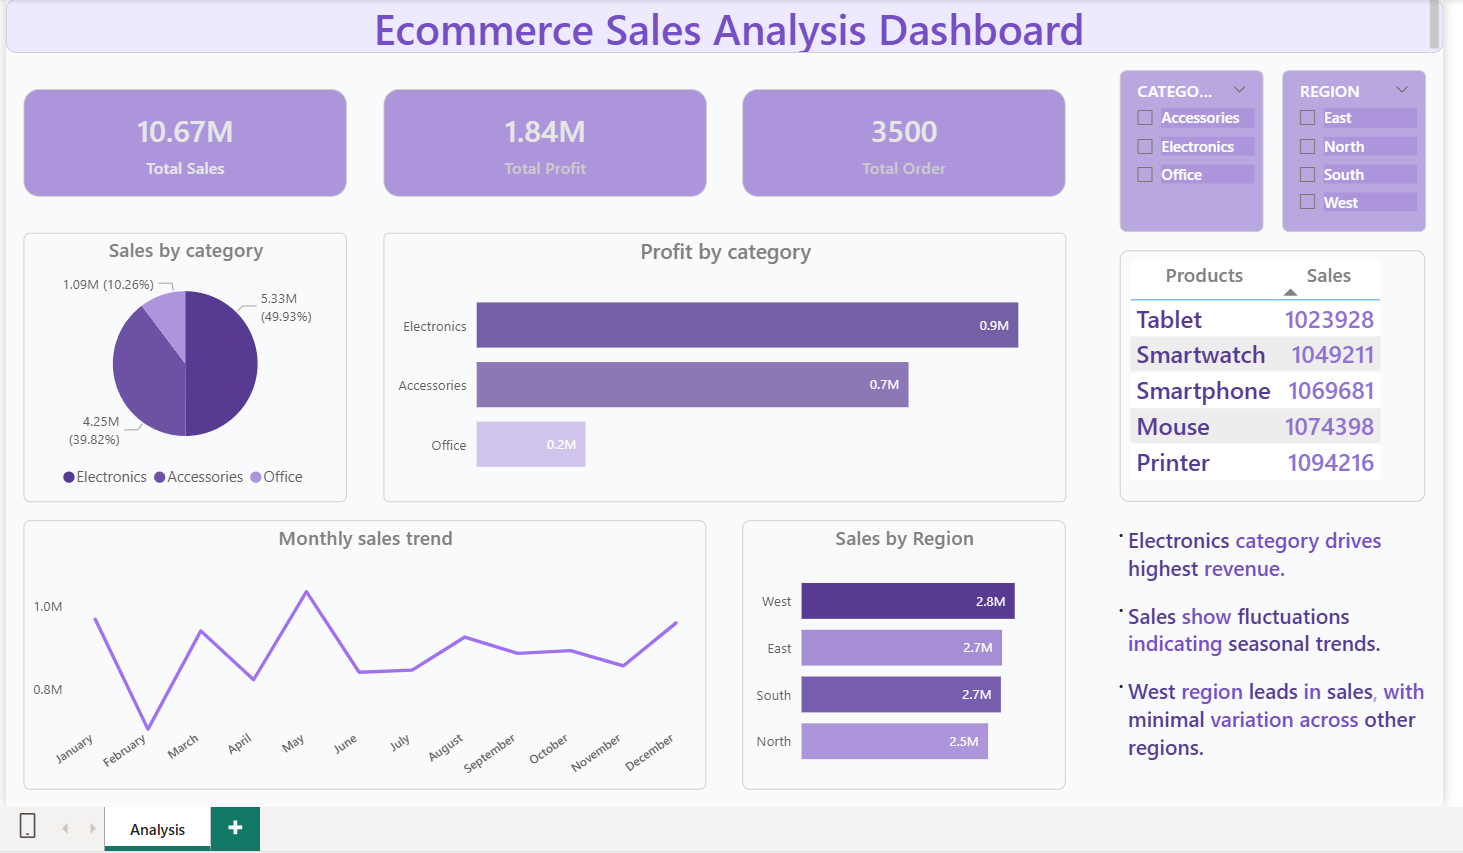

Layout of this report page (visuals, bound fields, positions):
{"tool":"powerbi","page":{"name":"Analysis","canvas":[1280,720],"ordinal":0},"visuals":[{"type":"textbox","title":"Ecommerce sales Analysis","box":[0,0,1280,48],"z":0},{"type":"card","fields":{"Values":["Sum(ecommerce sales.sales)"]},"box":[16,80,288,96],"z":1000},{"type":"card","fields":{"Values":["Sum(ecommerce sales.profit)"]},"box":[336,80,288,96],"z":2000},{"type":"card","fields":{"Values":["CountNonNull(ecommerce sales.Product Name)"]},"box":[656,80,288,96],"z":3000},{"type":"pieChart","title":"Sales by category","fields":{"Category":["ecommerce sales.CATEGORY"],"Y":["Sum(ecommerce sales.sales)"]},"box":[16,208,288,240],"z":4000},{"type":"clusteredBarChart","title":"Profit by category","fields":{"Category":["ecommerce sales.CATEGORY"],"Y":["Sum(ecommerce sales.profit)"]},"box":[336,208,608,240],"z":5000},{"type":"lineChart","title":"Monthly sales trend","fields":{"Category":["ecommerce sales.Order Date.Variation.Date Hierarchy.Month"],"Y":["Sum(ecommerce sales.sales)"]},"box":[16,464,608,240],"z":6000},{"type":"barChart","title":"Sales by Region","fields":{"Category":["ecommerce sales.region"],"Y":["Sum(ecommerce sales.sales)"]},"box":[656,464,288,240],"z":7000},{"type":"tableEx","fields":{"Values":["ecommerce sales.Product Name","Sum(ecommerce sales.sales)"]},"box":[992,224,272,224],"z":8000},{"type":"slicer","fields":{"Values":["ecommerce sales.region"]},"box":[1136,64,128,144],"z":9000},{"type":"slicer","fields":{"Values":["ecommerce sales.CATEGORY"]},"box":[992,64,128,144],"z":10000},{"type":"textbox","box":[976,464,304,240],"z":11000}]}

Visuals, with their boxes on the page's 1280x720 design canvas (x1, y1, x2, y2). These are canvas units, not pixel positions in the 1463x853 screenshot, which may show the page scaled, cropped or inside an application window:
"Ecommerce sales Analysis" textbox: select_region(0, 0, 1280, 48)
card - Sum(ecommerce sales.sales): select_region(16, 80, 304, 176)
card - Sum(ecommerce sales.profit): select_region(336, 80, 624, 176)
card - CountNonNull(ecommerce sales.Product Name): select_region(656, 80, 944, 176)
"Sales by category" pieChart: select_region(16, 208, 304, 448)
"Profit by category" clusteredBarChart: select_region(336, 208, 944, 448)
"Monthly sales trend" lineChart: select_region(16, 464, 624, 704)
"Sales by Region" barChart: select_region(656, 464, 944, 704)
tableEx - ecommerce sales.Product Name x Sum(ecommerce sales.sales): select_region(992, 224, 1264, 448)
slicer - ecommerce sales.region: select_region(1136, 64, 1264, 208)
slicer - ecommerce sales.CATEGORY: select_region(992, 64, 1120, 208)
textbox: select_region(976, 464, 1280, 704)
